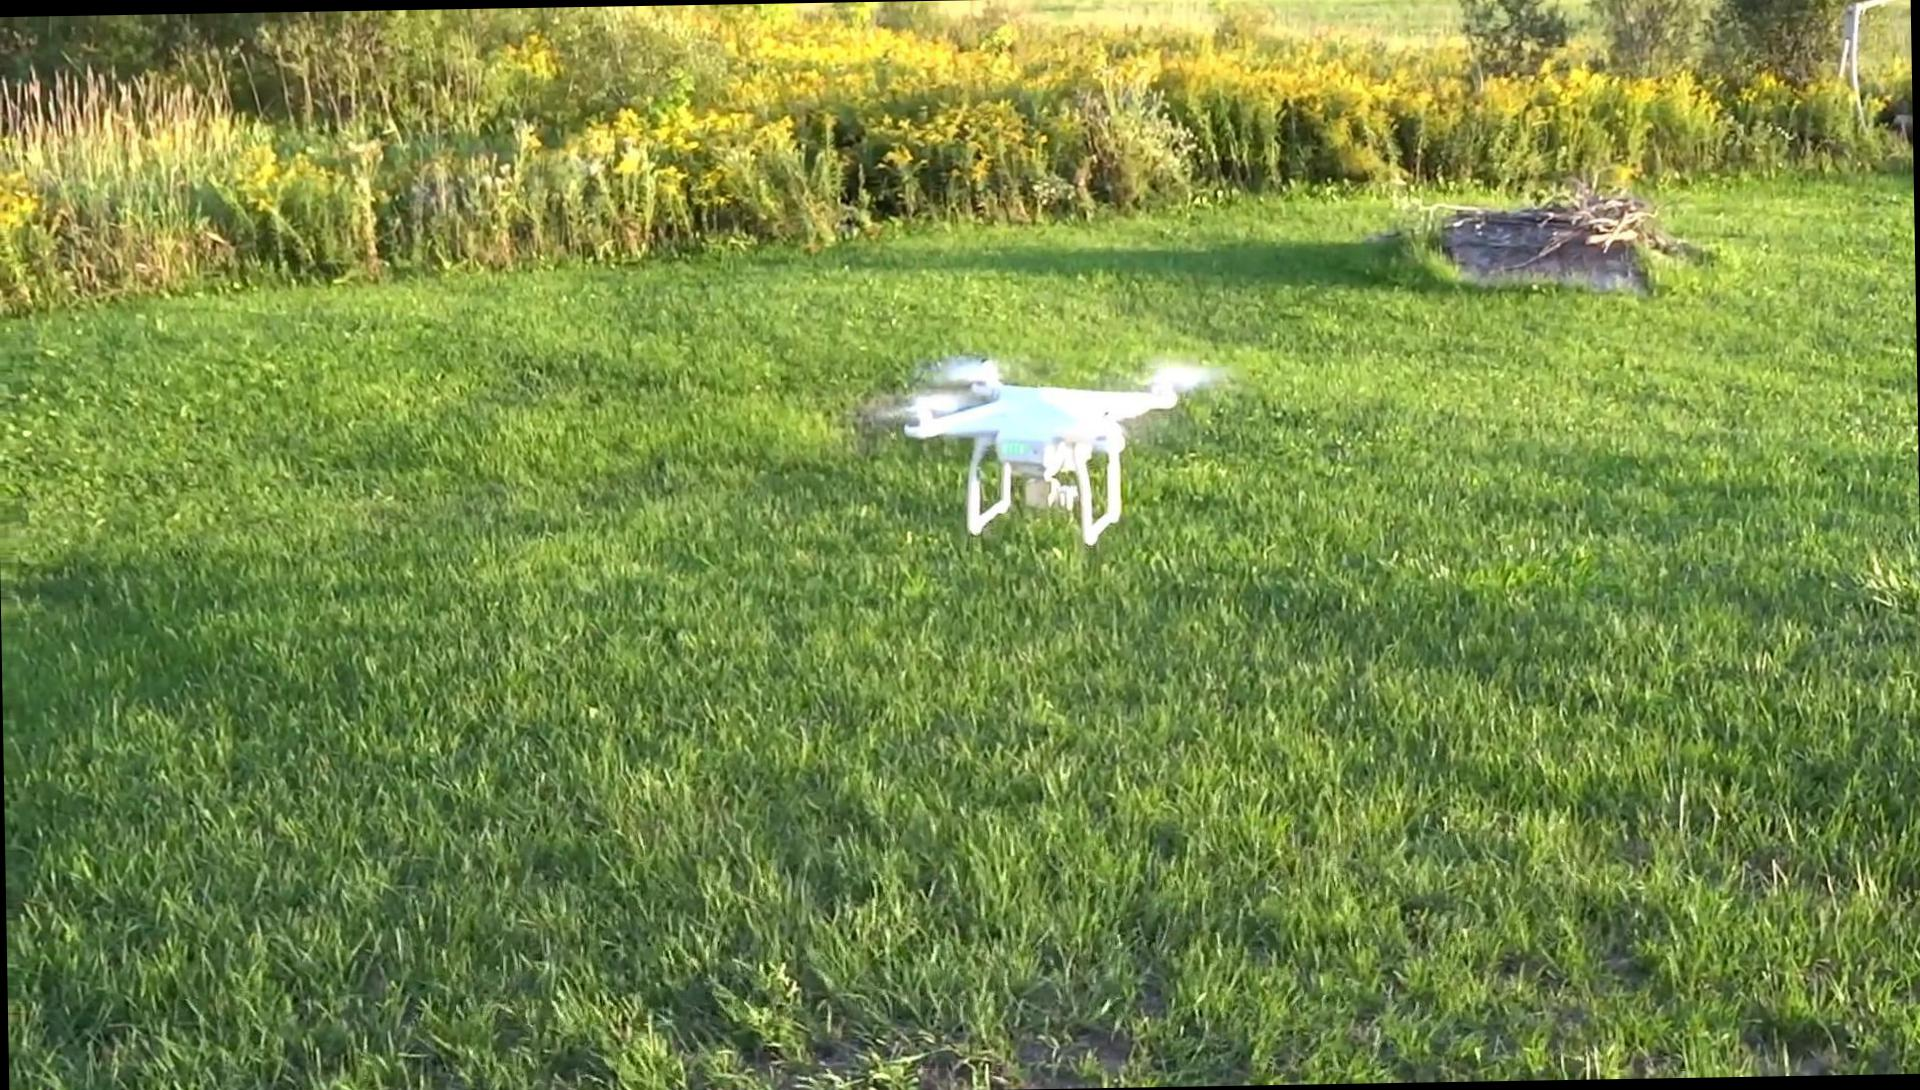drone: (877, 340, 1211, 552)
